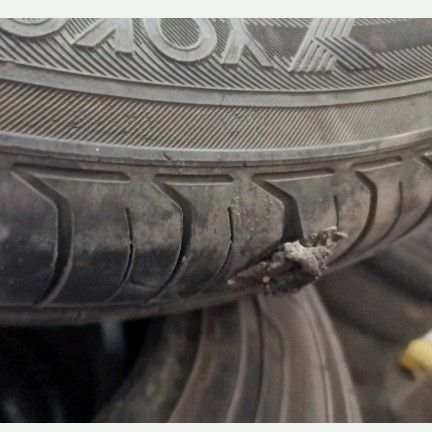tr: (221, 227, 354, 300)
